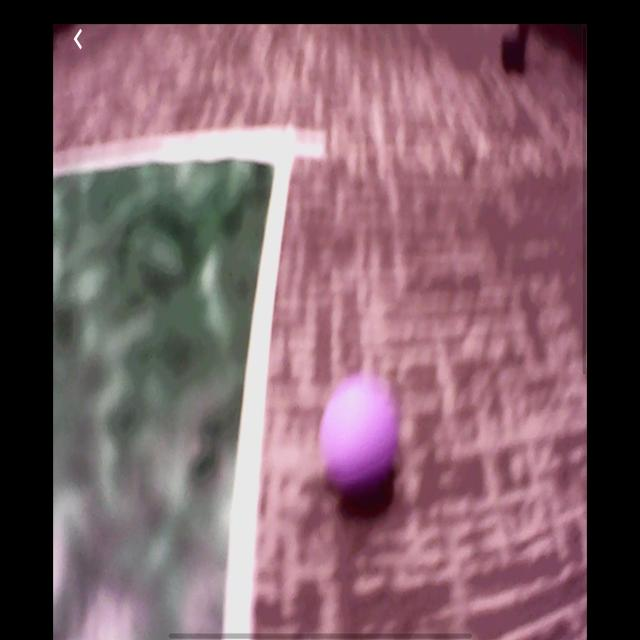ball: (318, 371, 401, 501)
